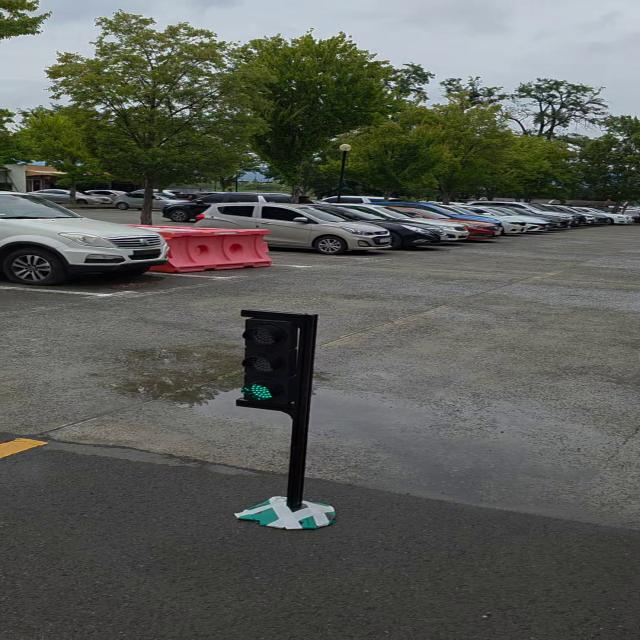green: (234, 310, 311, 416)
